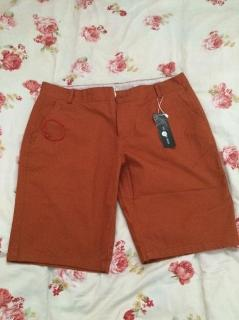shorts: (7, 72, 239, 273)
